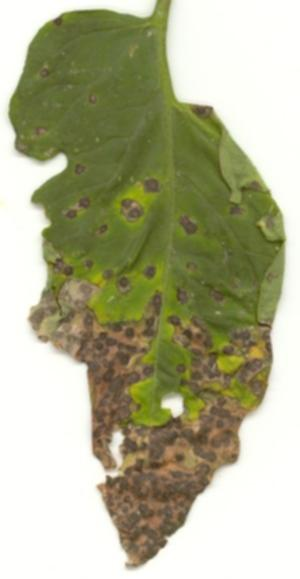Tomato Septoria leaf spot: (17, 0, 289, 572)
